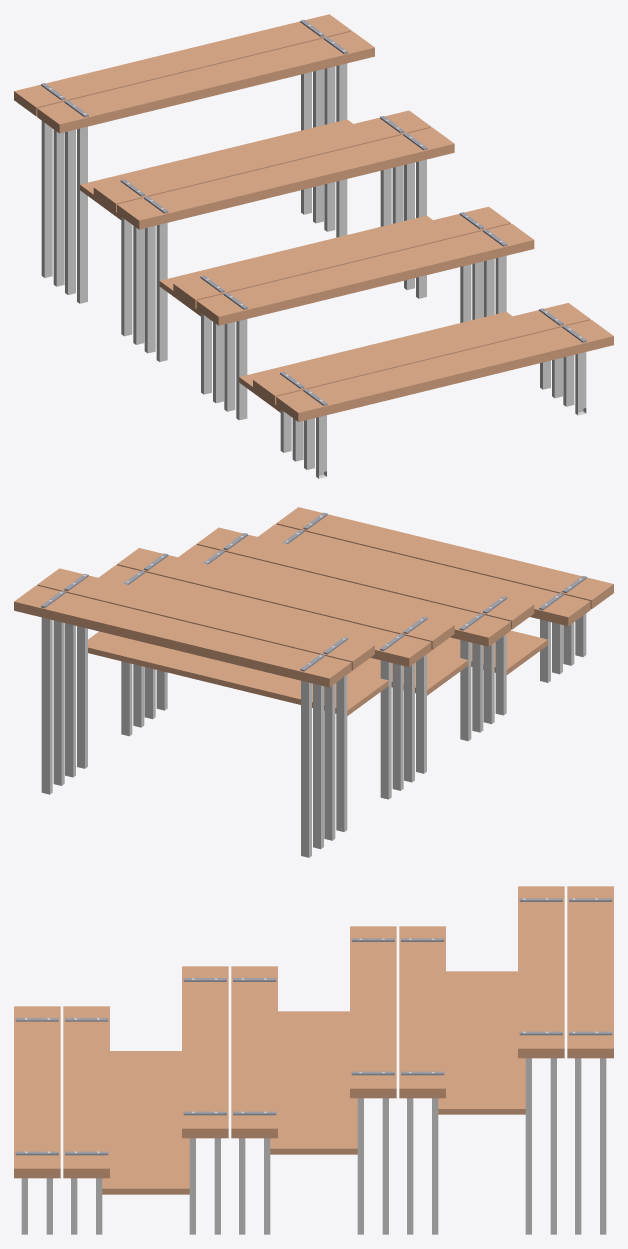
The model's file is Tribune.fbx.
The picture shows the model from 3 angles, top to bottom: view 1: azimuth 30°, elevation 25°; view 2: azimuth 150°, elevation 25°; view 3: azimuth 270°, elevation 25°; orthographic projection. The views are drawn at different scales.
Parts seen in each view (by area): view 1: AA_Tribune01.001; view 2: AA_Tribune01.001; view 3: AA_Tribune01.001.
Part boxes in pixels (x1,y1,x2,y2): AA_Tribune01.001: (14, 14, 613, 478); AA_Tribune01.001: (14, 507, 613, 857); AA_Tribune01.001: (14, 886, 613, 1234).
Size of the model in its own units: 2 by 1.15 by 3.12.
